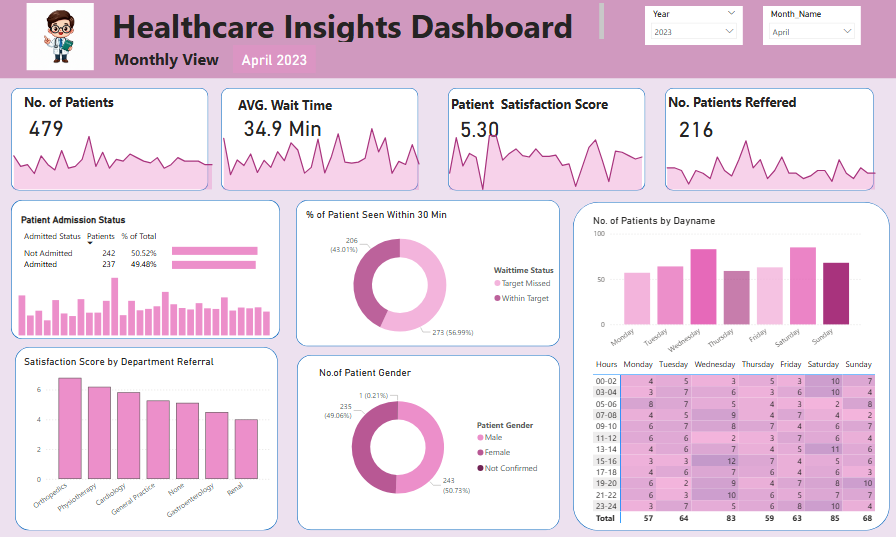

The dashboard page shown, as its layout file describes it:
{"tool":"powerbi","page":{"name":"Page 1","canvas":[1500,900],"ordinal":0},"visuals":[{"type":"shape","box":[21.2,146.2,328.8,171.2],"z":0},{"type":"card","fields":{"Values":["Hospital ER_Data.No. of Patients"]},"box":[21.2,171.2,117.3,76.9],"z":1000},{"type":"shape","box":[0,0,1500,130.8],"z":2000},{"type":"textbox","box":[185,0,830,75],"z":3000},{"type":"textbox","box":[188.3,75,191.7,111.7],"z":4000},{"type":"slicer","fields":{"Values":["Date.Year"]},"box":[1078.3,10,163.3,65],"z":5000},{"type":"slicer","fields":{"Values":["Date.Month_Nmae"]},"box":[1275,10,163.3,65],"z":6000},{"type":"textbox","box":[38.5,150,246.2,42.3],"z":7000},{"type":"shape","box":[750,146.2,328.8,171.2],"z":8000},{"type":"shape","box":[1111.5,146.2,348.1,171.2],"z":9000},{"type":"card","fields":{"Values":["Min(Date.Month & Year)"]},"box":[391.7,75,138.3,46.7],"z":10000},{"type":"shape","box":[371.2,146.2,328.8,171.2],"z":11000},{"type":"card","fields":{"Values":["Hospital ER_Data.Avg. Wait Time"]},"box":[371.2,171.2,205.8,76.9],"z":12000},{"type":"textbox","box":[394.6,154.2,246.2,42.3],"z":13000},{"type":"areaChart","fields":{"Category":["Date.Date.Variation.Date Hierarchy.Day"],"Y":["Avg(Hospital ER_Data.Patient Waittime)"]},"box":[350,192.3,353.8,128.8],"z":14000},{"type":"areaChart","fields":{"Y":["Hospital ER_Data.No. of Patients"],"Category":["Date.Date.Variation.Date Hierarchy.Day"]},"box":[0,207.7,350,109.6],"z":15000},{"type":"card","fields":{"Values":["Hospital ER_Data.Satisfaction_Score"]},"box":[750,173.1,103.8,76.9],"z":16000},{"type":"textbox","box":[750,153.8,280.8,38.5],"z":17000},{"type":"areaChart","fields":{"Category":["Date.Date.Variation.Date Hierarchy.Day"],"Y":["Hospital ER_Data.Satisfaction_Score"]},"box":[728.8,209.6,350,109.6],"z":18000},{"type":"card","fields":{"Values":["Hospital ER_Data.No. of Patients Refferd"]},"box":[1111.5,173.1,103.8,76.9],"z":19000},{"type":"textbox","box":[1111.5,150,244.2,46.2],"z":20000},{"type":"areaChart","fields":{"Category":["Date.Date.Variation.Date Hierarchy.Day"],"Y":["Hospital ER_Data.No. of Patients Refferd"]},"box":[1096.2,211.5,380.8,109.6],"z":21000},{"type":"shape","box":[21.7,333.3,448.3,231.7],"z":22000},{"type":"pivotTable","title":"Patient Admission Status","fields":{"Rows":["Hospital ER_Data.Admitted Status"],"Values":["Hospital ER_Data.No. of Patients1","Hospital ER_Data.No. of Patients"]},"box":[33.3,356.7,426.7,186.7],"z":23000},{"type":"barChart","fields":{"Category":["Hospital ER_Data.Admitted Status"],"Y":["Hospital ER_Data.No. of Patients"]},"box":[285,386.7,186.7,80],"z":24000},{"type":"shape","box":[28,578,438,306],"z":25000},{"type":"columnChart","fields":{"Category":["Hospital ER_Data.Department Referral"],"Y":["Hospital ER_Data.Satisfaction_Score"]},"box":[38.3,591.7,420,291.7],"z":26000},{"type":"lineStackedColumnComboChart","fields":{"Category":["Hospital ER_Data.Patient Admission Date.Variation.Date Hierarchy.Day"],"Y":["Sum(Hospital ER_Data.Patient Waittime)"]},"box":[15,415,443.3,150],"z":27000},{"type":"shape","box":[496,334,440,244],"z":28000},{"type":"donutChart","title":"% of Patient Seen Within 30 Min","fields":{"Category":["Hospital ER_Data.Waittime Status"],"Y":["Hospital ER_Data.No. of Patients"]},"box":[508,346,438,238],"z":29000},{"type":"shape","box":[498,592,438,292],"z":30000},{"type":"donutChart","title":"No.of Patient Gender","fields":{"Y":["Hospital ER_Data.No. of Patients"],"Category":["Hospital ER_Data.Patient Gender"]},"box":[530,610,384,252],"z":31000},{"type":"shape","box":[958,336,528,548],"z":32000},{"type":"pivotTable","fields":{"Rows":["Hospital ER_Data.Waittime Interval"],"Columns":["Date.Dayname"],"Values":["Hospital ER_Data.No. of Patients"]},"box":[986,592,514,308],"z":33000},{"type":"columnChart","fields":{"Category":["Date.Dayname"],"Y":["Hospital ER_Data.No. of Patients"]},"box":[986,356,460,254],"z":34000},{"type":"image","box":[21.7,0,163.3,121.7],"z":34001}]}

Visuals, with their boxes in screenshot pixels (x1, y1, x2, y2), scaled from the page's 1500x900 canvas onto the 896x537 screenshot:
shape: (13, 87, 209, 189)
card - Hospital ER_Data.No. of Patients: (13, 102, 83, 148)
shape: (0, 0, 895, 78)
textbox: (111, 0, 606, 45)
textbox: (112, 45, 227, 111)
slicer - Date.Year: (644, 6, 742, 45)
slicer - Date.Month_Nmae: (762, 6, 859, 45)
textbox: (23, 90, 170, 115)
shape: (448, 87, 644, 189)
shape: (664, 87, 872, 189)
card - Min(Date.Month & Year): (234, 45, 317, 73)
shape: (222, 87, 418, 189)
card - Hospital ER_Data.Avg. Wait Time: (222, 102, 345, 148)
textbox: (236, 92, 383, 117)
areaChart - Date.Date.Variation.Date Hierarchy.Day x Avg(Hospital ER_Data.Patient Waittime): (209, 115, 420, 192)
areaChart - Hospital ER_Data.No. of Patients x Date.Date.Variation.Date Hierarchy.Day: (0, 124, 209, 189)
card - Hospital ER_Data.Satisfaction_Score: (448, 103, 510, 149)
textbox: (448, 92, 616, 115)
areaChart - Date.Date.Variation.Date Hierarchy.Day x Hospital ER_Data.Satisfaction_Score: (435, 125, 644, 190)
card - Hospital ER_Data.No. of Patients Refferd: (664, 103, 726, 149)
textbox: (664, 90, 810, 117)
areaChart - Date.Date.Variation.Date Hierarchy.Day x Hospital ER_Data.No. of Patients Refferd: (655, 126, 882, 192)
shape: (13, 199, 281, 337)
"Patient Admission Status" pivotTable: (20, 213, 275, 324)
barChart - Hospital ER_Data.Admitted Status x Hospital ER_Data.No. of Patients: (170, 231, 282, 278)
shape: (17, 345, 278, 527)
columnChart - Hospital ER_Data.Department Referral x Hospital ER_Data.Satisfaction_Score: (23, 353, 274, 527)
lineStackedColumnComboChart - Hospital ER_Data.Patient Admission Date.Variation.Date Hierarchy.Day x Sum(Hospital ER_Data.Patient Waittime): (9, 248, 274, 337)
shape: (296, 199, 559, 345)
"% of Patient Seen Within 30 Min" donutChart: (303, 206, 565, 348)
shape: (297, 353, 559, 527)
"No.of Patient Gender" donutChart: (317, 364, 546, 514)
shape: (572, 200, 888, 527)
pivotTable - Hospital ER_Data.Waittime Interval x Date.Dayname: (589, 353, 895, 536)
columnChart - Date.Dayname x Hospital ER_Data.No. of Patients: (589, 212, 864, 364)
image: (13, 0, 111, 73)
